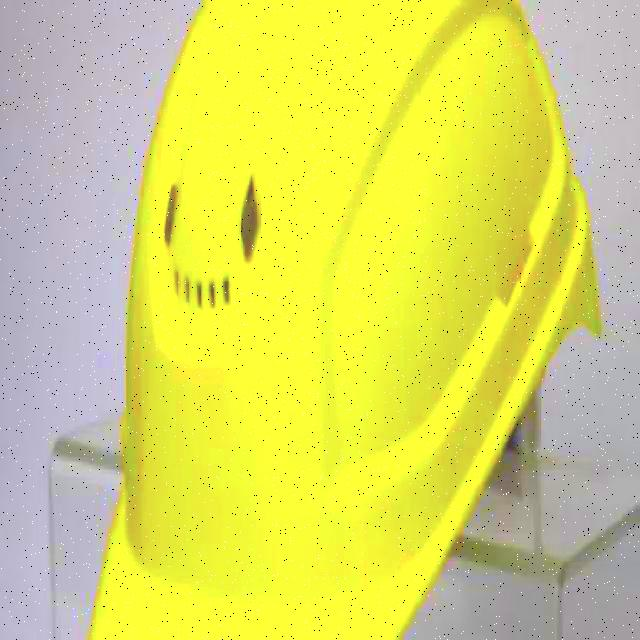Helmet: (87, 0, 601, 638)
